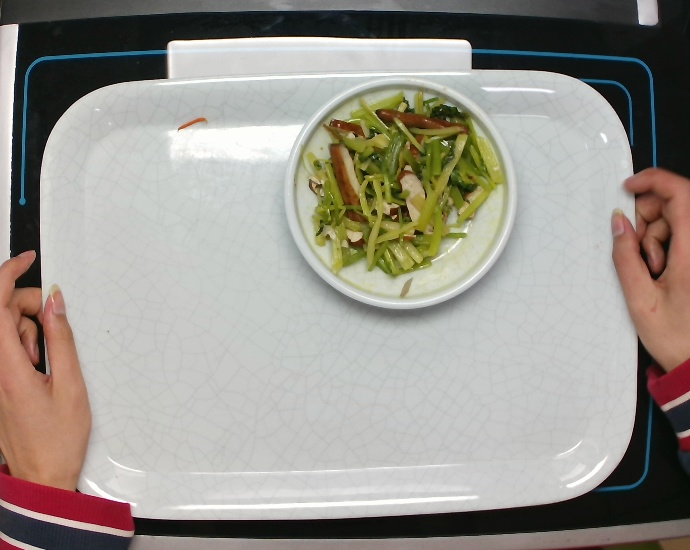JYsf-Xiao_Yuan_Pan: (280, 72, 519, 316)
